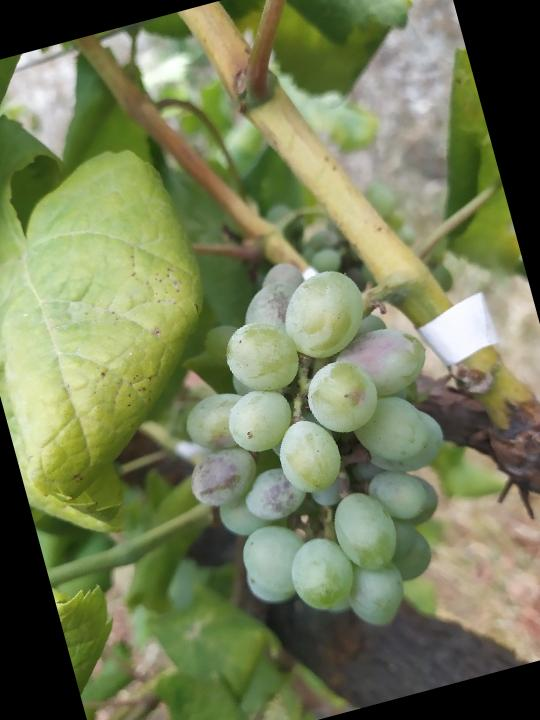grape: (137, 228, 496, 670)
